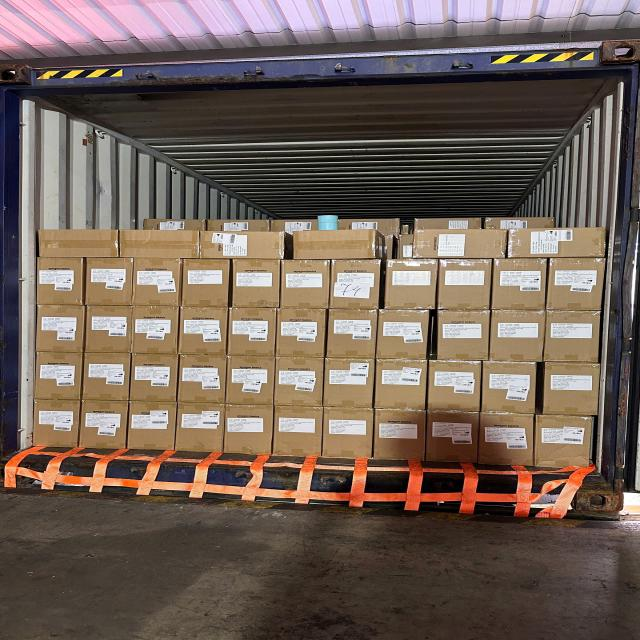Carton: (537, 413, 596, 467), (544, 360, 602, 414), (507, 228, 608, 258), (480, 412, 535, 466), (490, 258, 546, 311), (413, 228, 507, 259), (547, 258, 603, 310), (544, 312, 600, 364), (482, 362, 536, 415), (490, 312, 545, 364), (427, 358, 481, 410), (425, 411, 477, 464), (374, 360, 426, 412), (437, 260, 490, 311), (292, 229, 378, 260), (376, 409, 428, 460), (198, 230, 286, 260), (325, 359, 376, 410), (376, 311, 428, 361), (436, 312, 488, 362), (324, 407, 374, 459), (327, 308, 378, 358), (386, 261, 438, 310), (119, 228, 201, 259), (276, 307, 326, 357), (274, 358, 324, 408), (332, 259, 381, 310), (282, 260, 331, 310), (231, 259, 280, 309), (228, 306, 276, 356), (36, 350, 84, 400), (79, 401, 127, 451), (274, 406, 322, 456), (129, 402, 177, 452), (85, 305, 133, 354), (180, 309, 229, 357), (180, 356, 228, 405), (223, 405, 271, 454), (225, 354, 272, 404), (38, 258, 85, 308), (84, 351, 131, 401), (130, 352, 178, 400), (178, 403, 225, 452), (86, 258, 132, 308), (31, 400, 77, 450), (39, 228, 120, 256), (133, 258, 180, 306), (184, 260, 231, 308), (38, 307, 86, 354), (132, 308, 178, 355), (350, 462, 377, 508)
